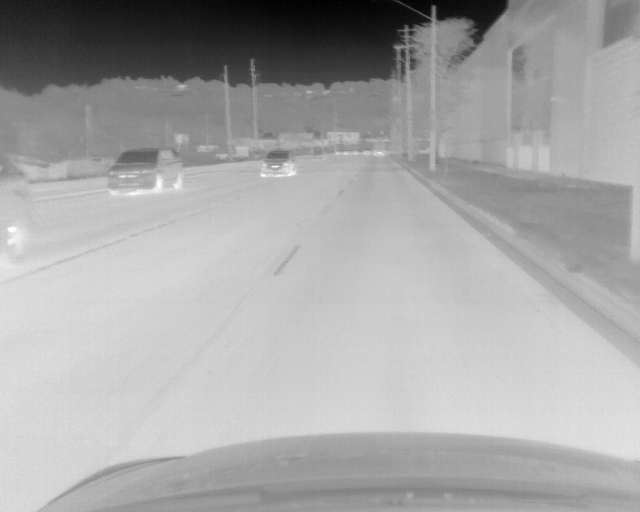car: (106, 147, 184, 197), (1, 150, 33, 266), (260, 151, 295, 176)
